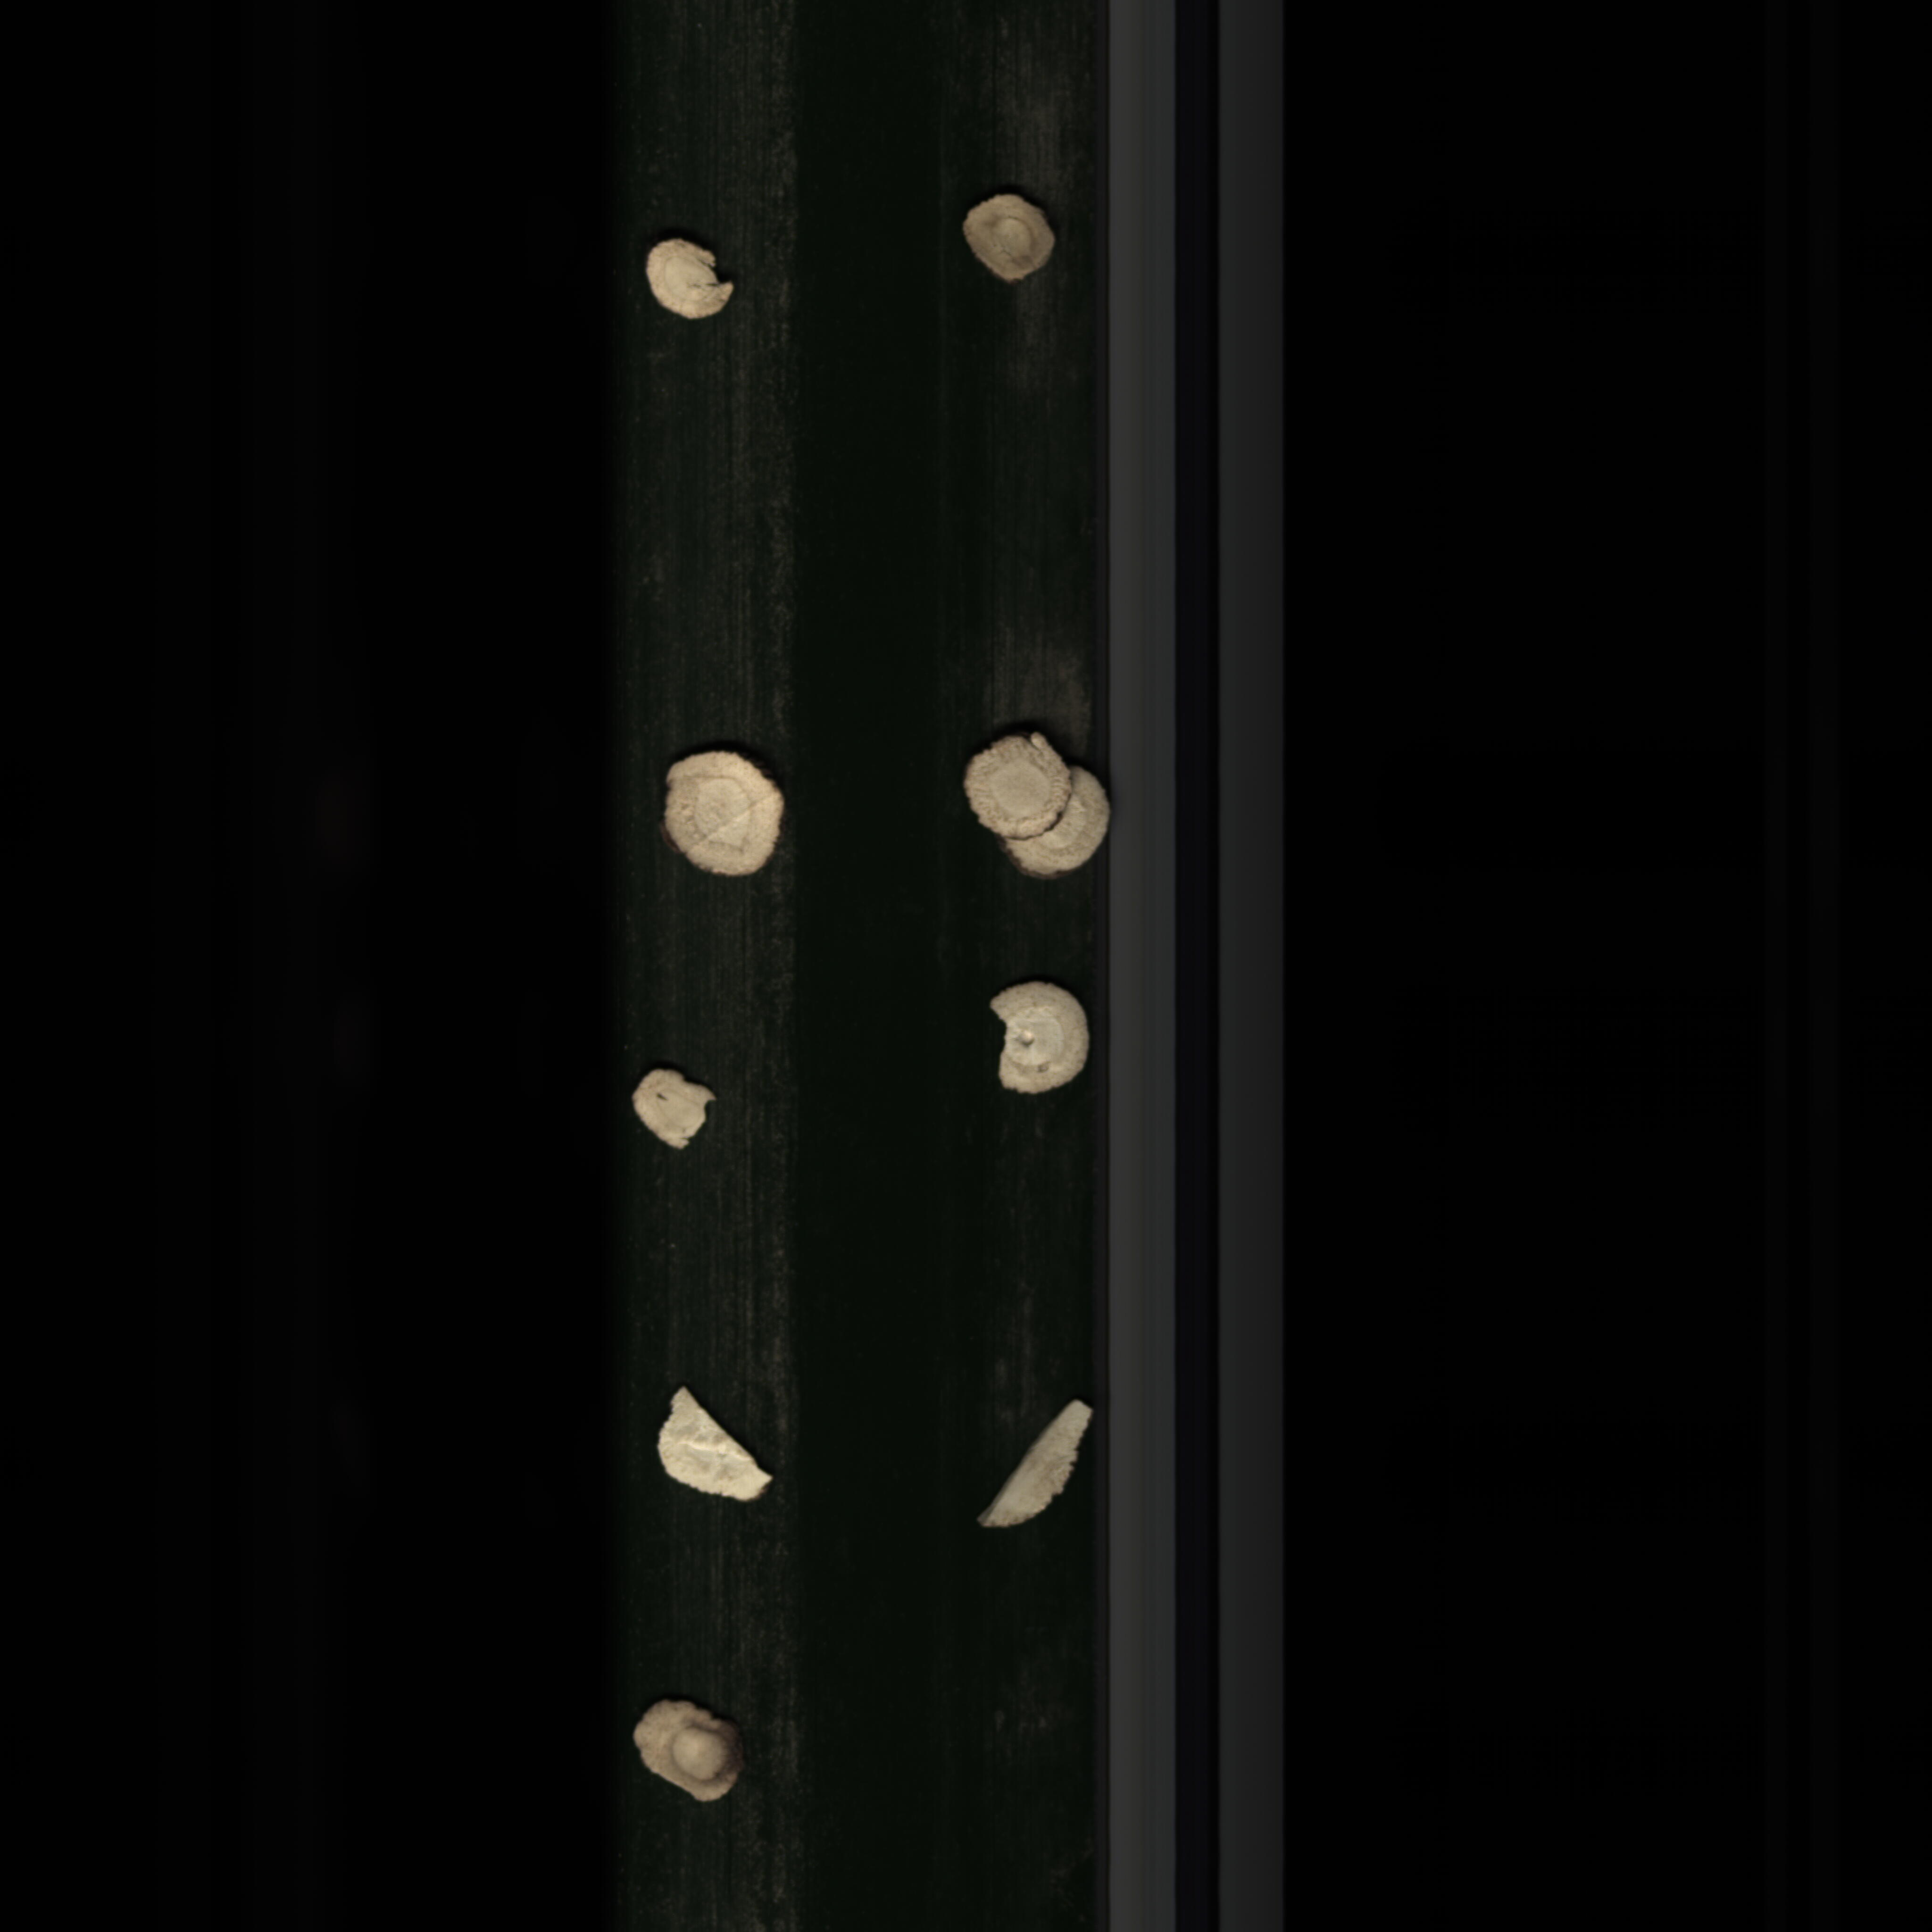debris: (962, 1398, 1095, 1537), (653, 1380, 778, 1516), (982, 977, 1095, 1102), (623, 223, 743, 320), (625, 1063, 718, 1161)
moldy: (623, 1686, 750, 1817), (955, 182, 1058, 292)
